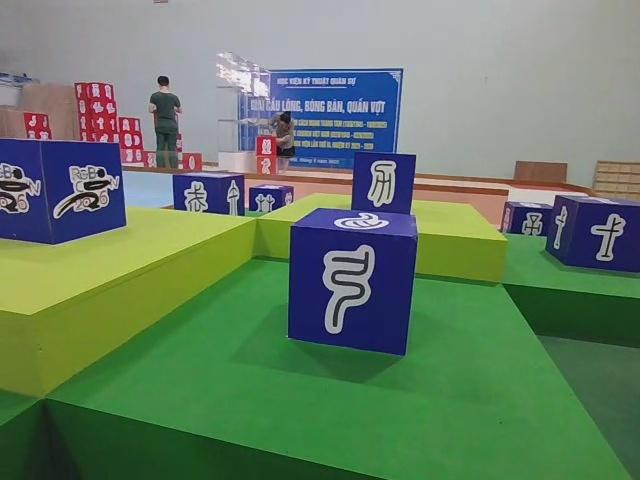R1 Blue: (1, 137, 125, 246)
R2 Fake Blue: (288, 208, 419, 357), (351, 152, 415, 218), (173, 172, 245, 216)
R2 Real Blue: (548, 195, 640, 274), (502, 201, 554, 237), (249, 184, 295, 214)
